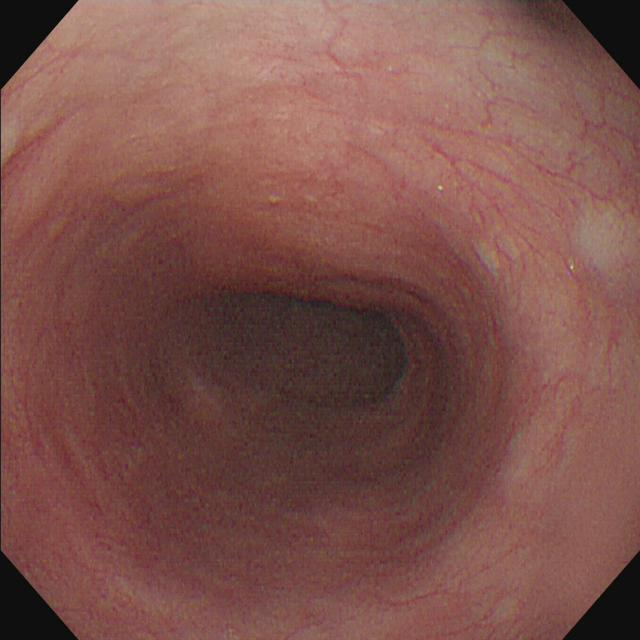E: (223, 291, 408, 405)
